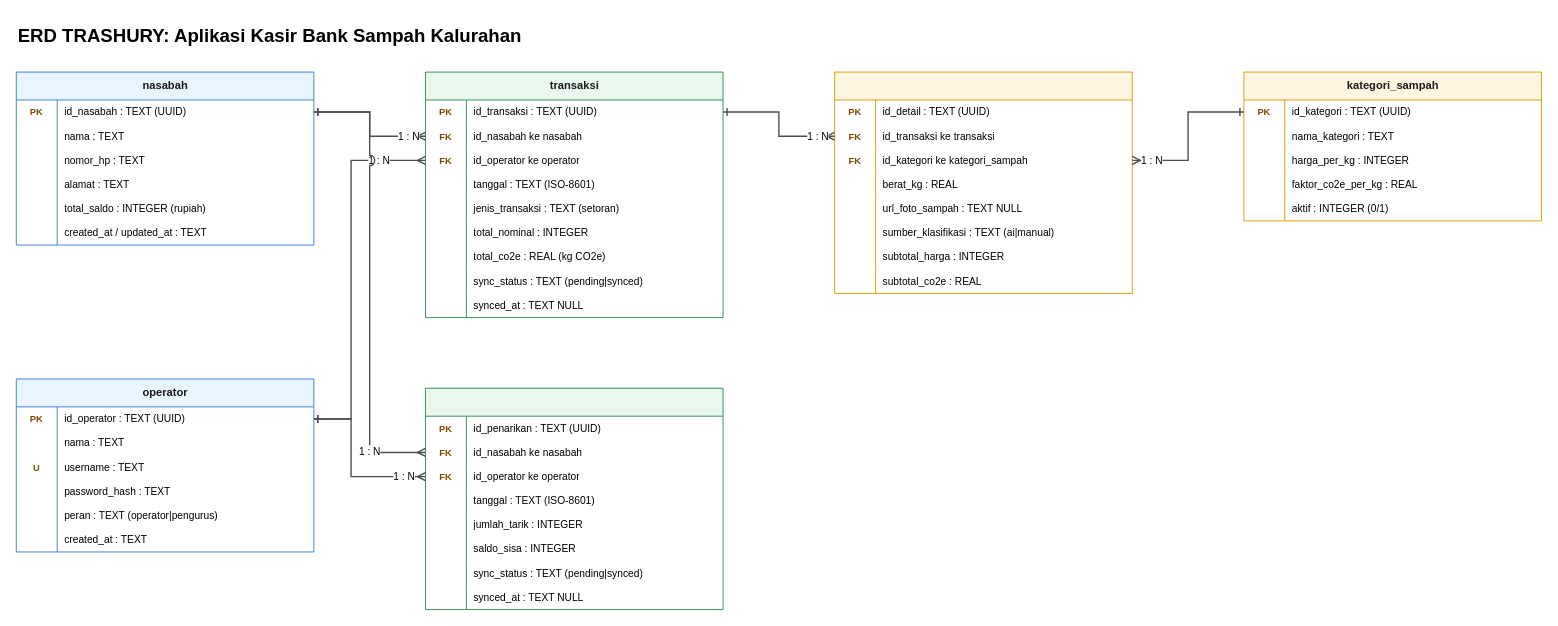
This 1558x626 diagram has some shape labels left out. The shapes that lost their labels are listed below. From the top down, each one's box as (x1, y1, x2, y2) in pixels, then its label:
(834, 71, 1132, 293): detail_transaksi
(425, 387, 723, 610): penarikan_saldo
